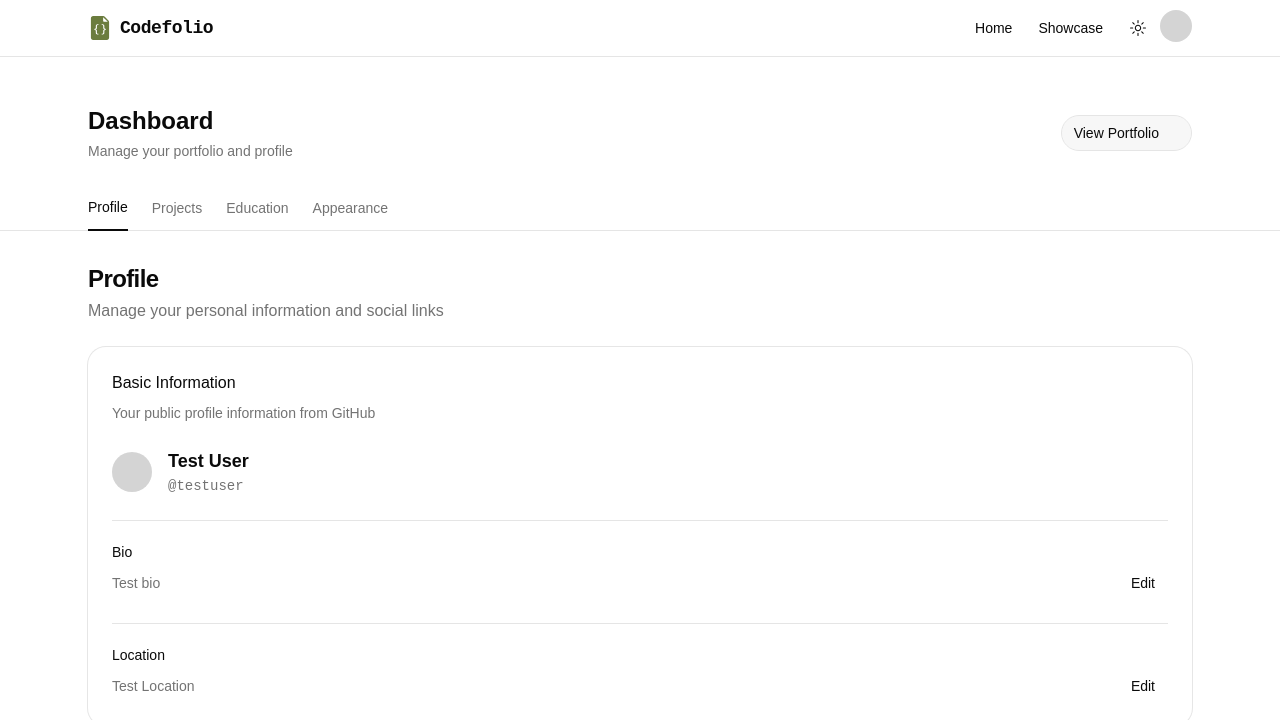
Education Management › should edit an existing education entry
Click the button "Education" at (257, 208), box [226,185,288,231]
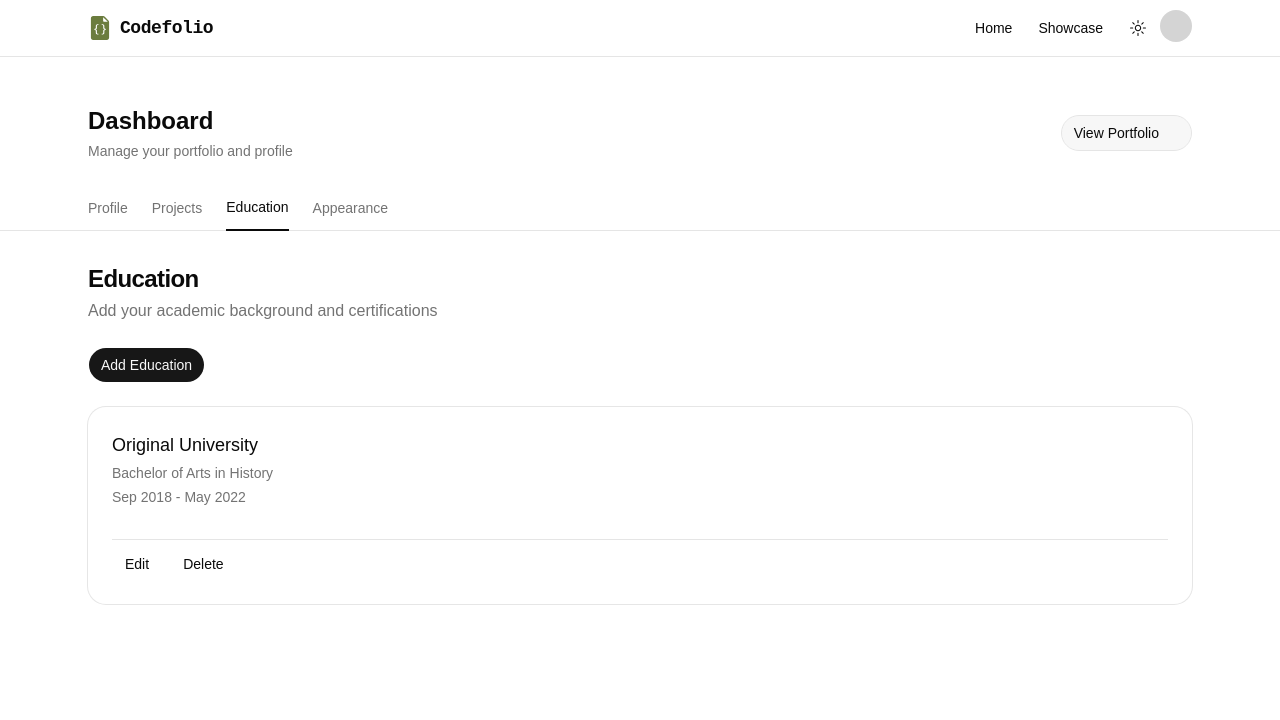
Expected: the text "Original University" is shown, [112,435,258,455]
Click the button "Edit" at (137, 564), box [112,548,162,580]
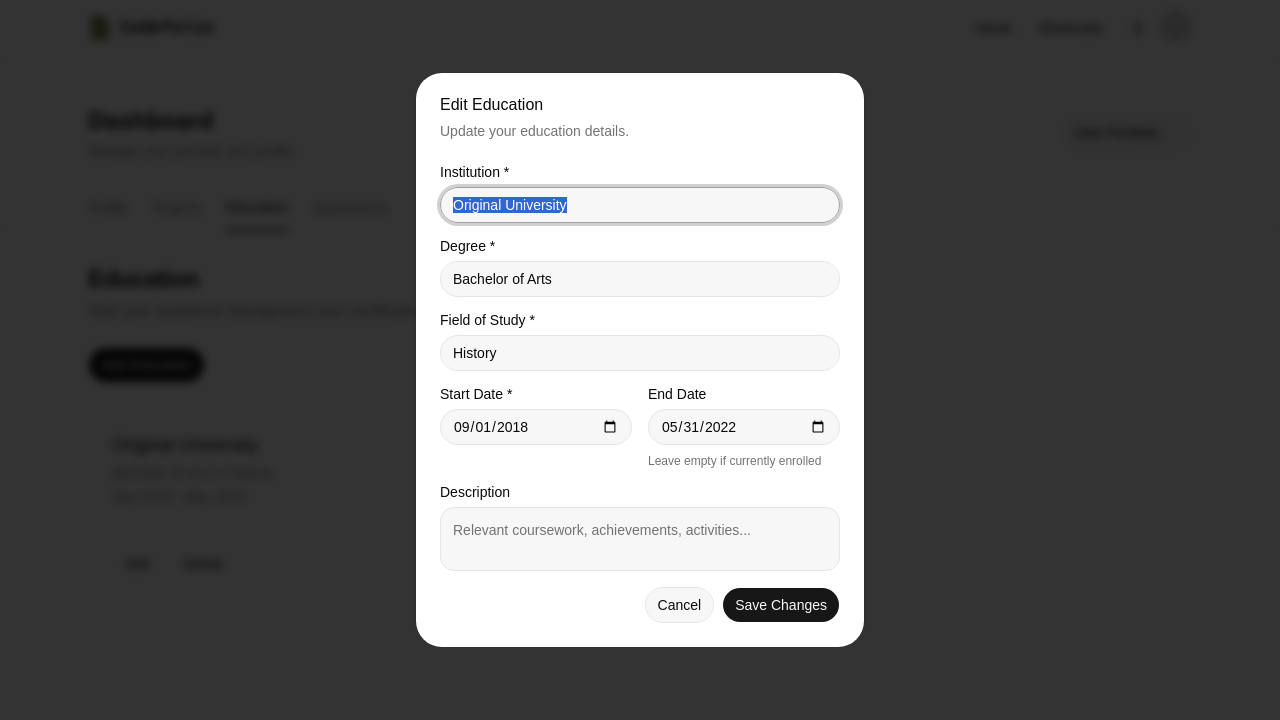
Replace the text in the field with id "edit-institution" with "Updated University" at (640, 205), box [440,187,840,223]
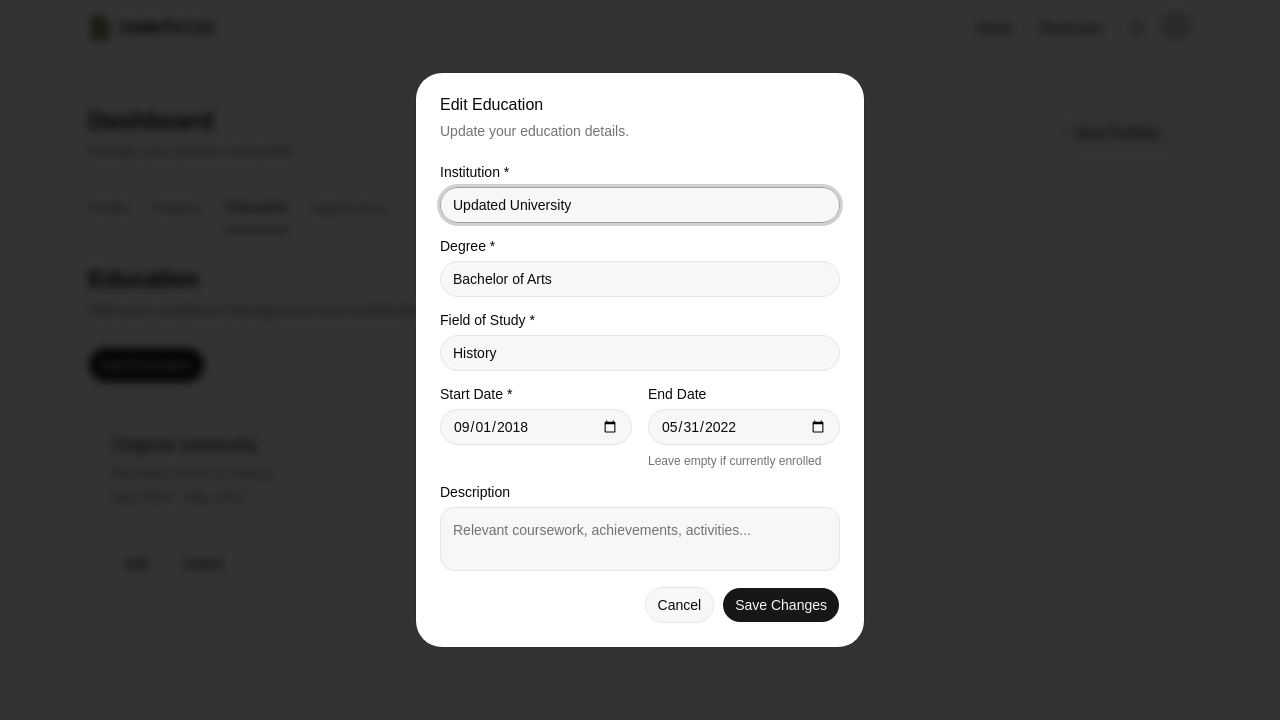
Replace the text in the field with id "edit-degree" with "Bachelor of Science" at (640, 279), box [440,261,840,297]
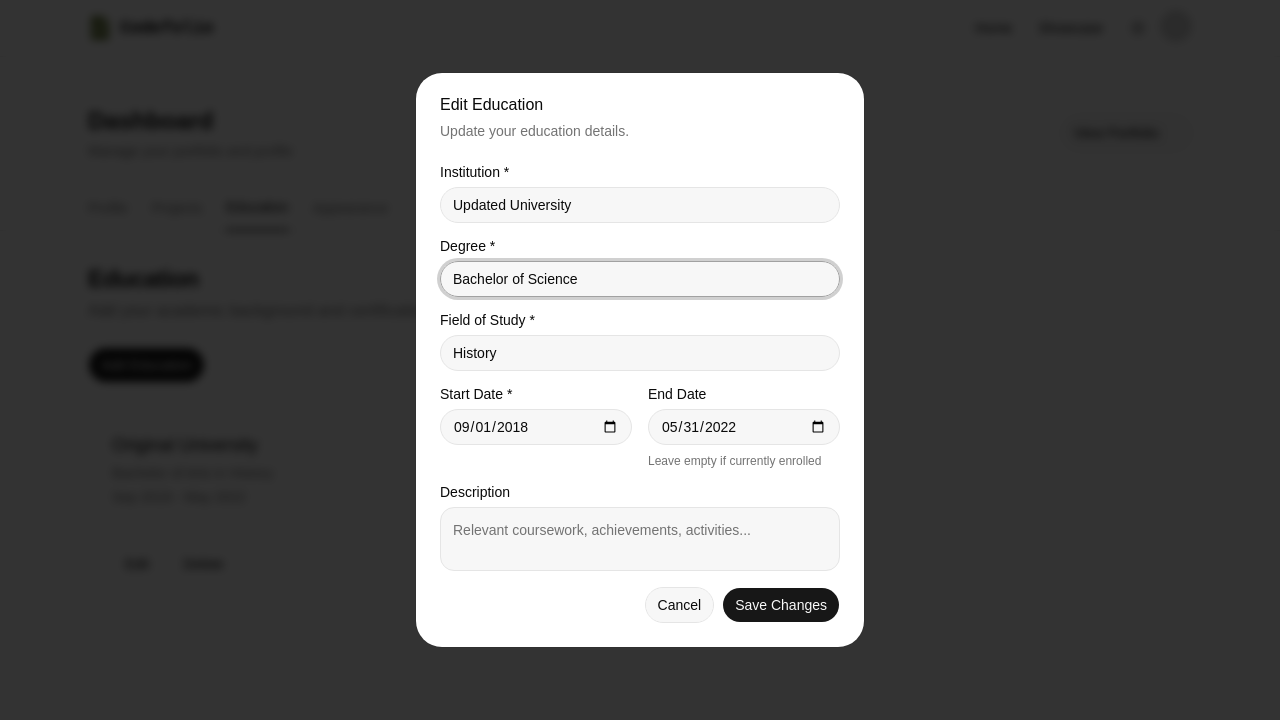
Replace the text in the field with id "edit-fieldOfStudy" with "Computer Science" at (640, 353), box [440,335,840,371]
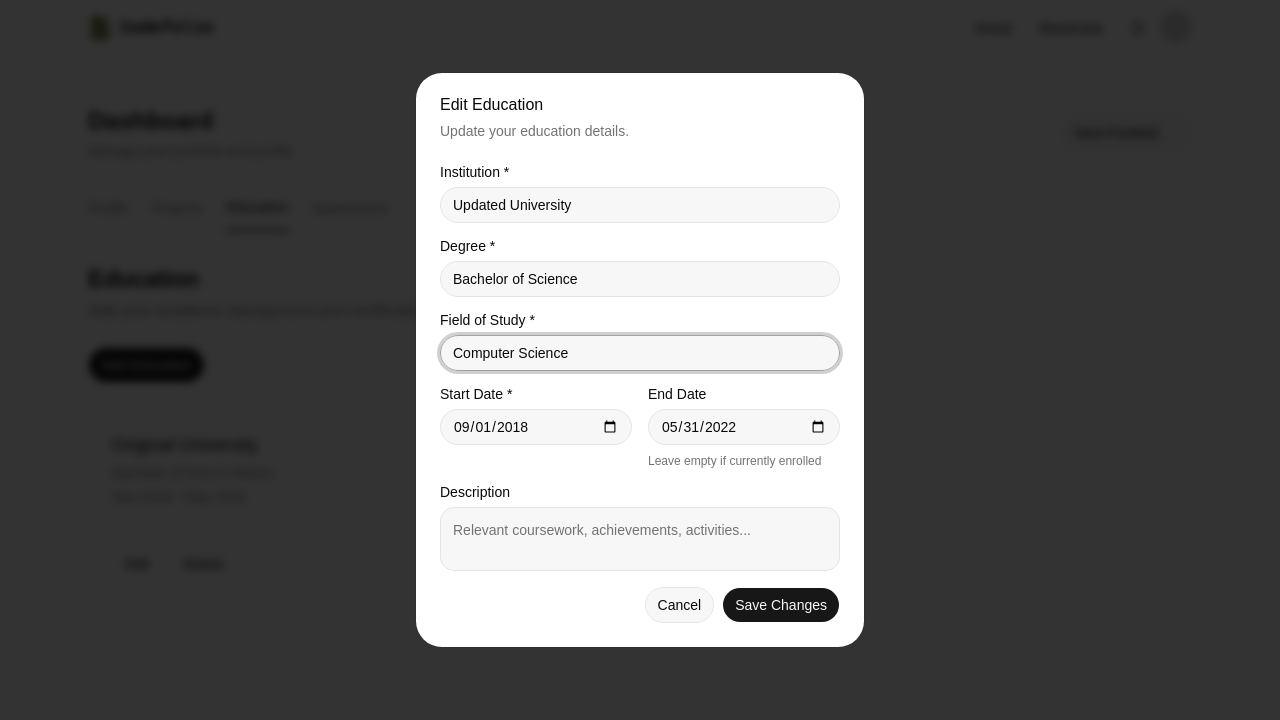
Click the button "Save Changes" at (781, 605), box [722,587,840,623]
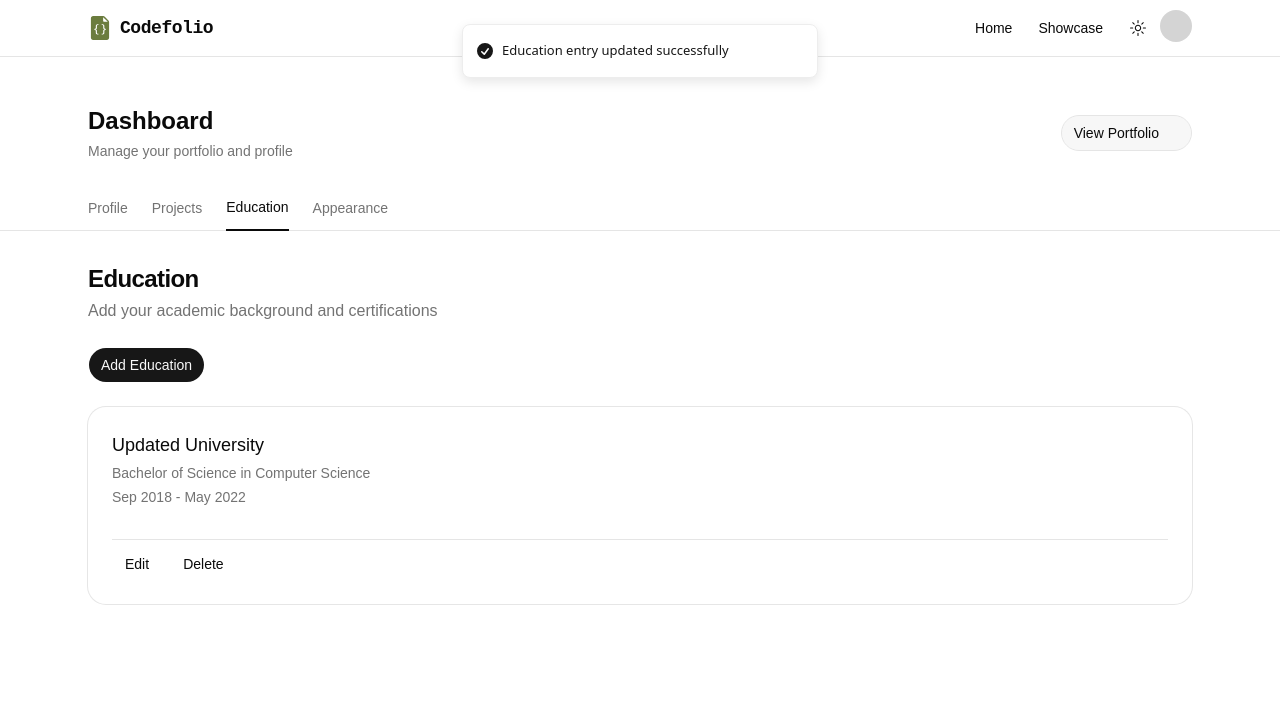
Expected: the text "Updated University" is shown, [112,435,264,455]
Expected: the text "Bachelor of Science" is shown, [112,465,237,481]
Expected: the text "Computer Science" is shown, [255,465,370,481]
